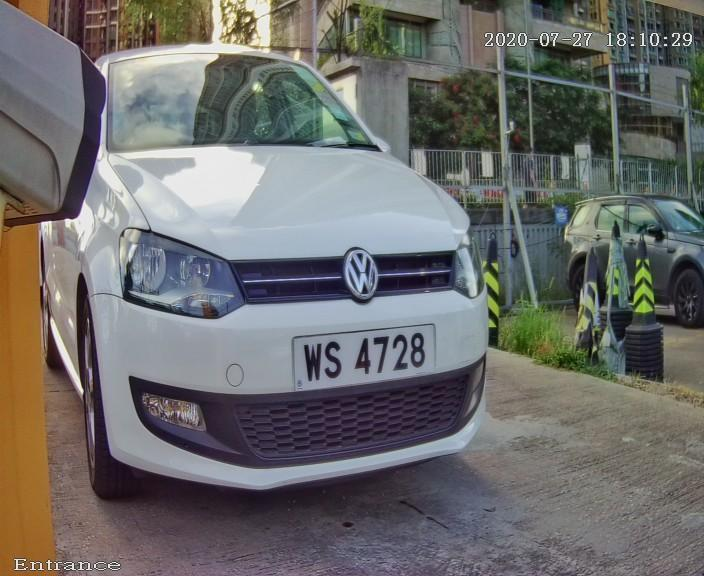privatecar: (41, 13, 541, 525)
